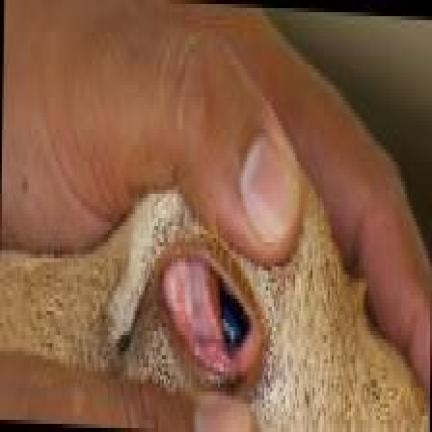goat-eye-anemia-22222222: (162, 258, 201, 351)
